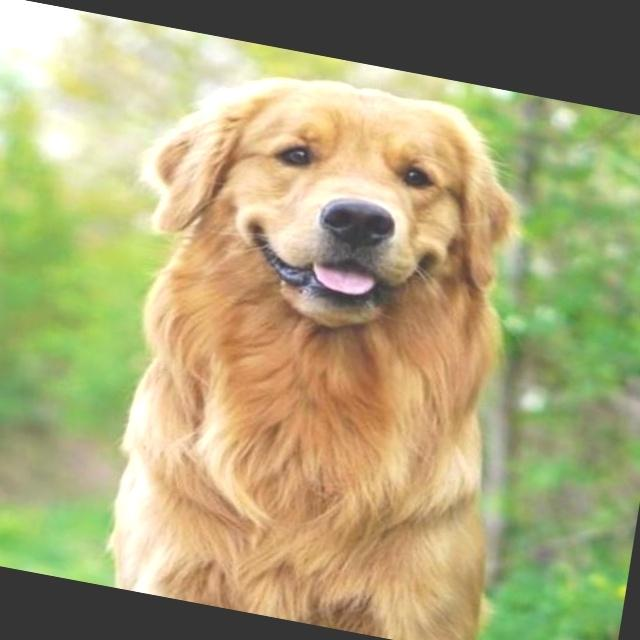dog: (71, 27, 629, 640)
